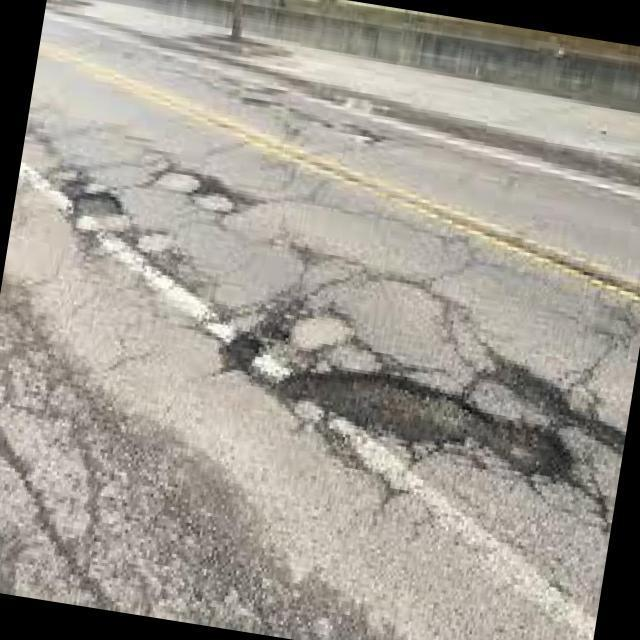Pothole: (280, 378, 535, 471)
